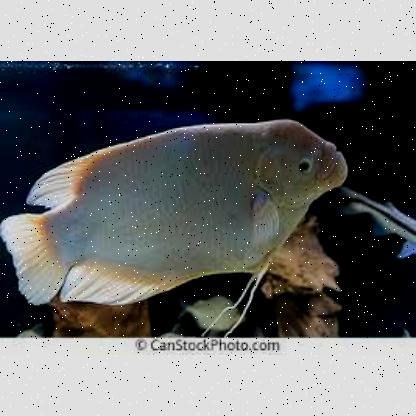gurame: (3, 117, 353, 304)
